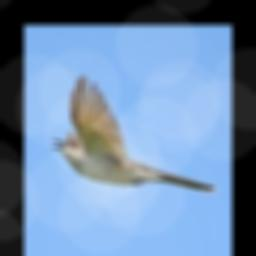Cuckoo: (50, 74, 216, 192)
